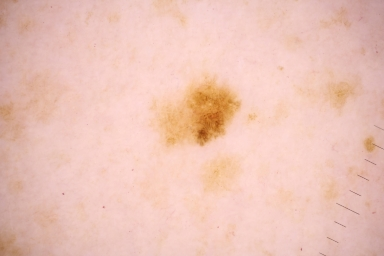melanoma: (163, 83, 242, 147)
